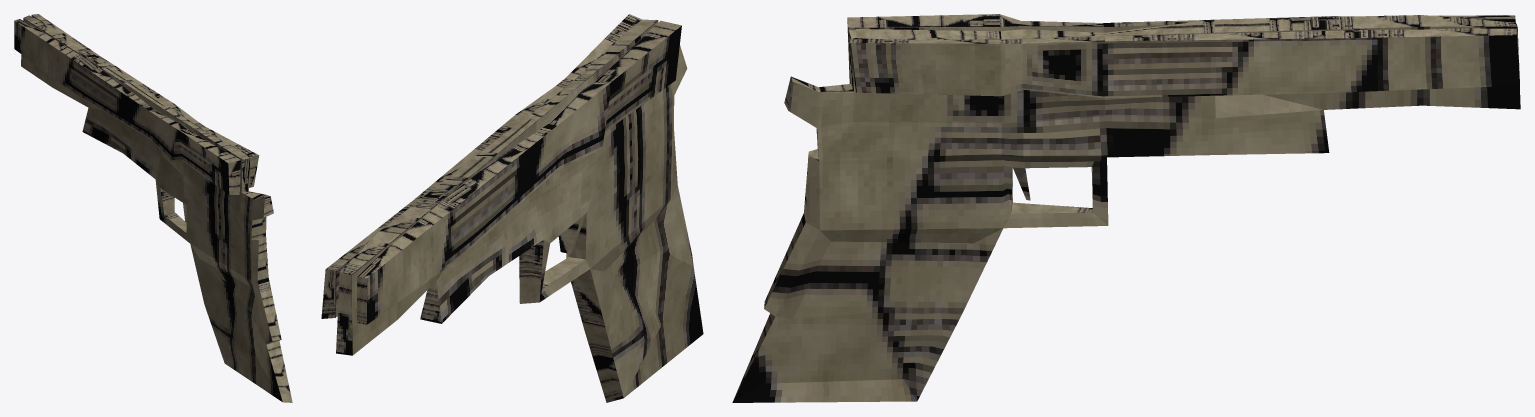
Rendered from cardboardPistol_walk.fbx.
3 renders of one model, left to right at view 1: azimuth 30°, elevation 25°; view 2: azimuth 150°, elevation 25°; view 3: azimuth 270°, elevation 25°, orthographic. The views are drawn at different scales.
Parts seen in each view (by area): view 1: main pistol, slider; view 2: main pistol, slider; view 3: main pistol, slider.
Part boxes in pixels (left/top/right/bottom): main pistol: left=21, top=15, right=292, bottom=402; slider: left=14, top=14, right=259, bottom=194; main pistol: left=336, top=19, right=703, bottom=402; slider: left=321, top=14, right=681, bottom=324; main pistol: left=732, top=15, right=1520, bottom=402; slider: left=847, top=14, right=1519, bottom=98.
Size of the model in its own units: 4.5 by 22.8 by 44.65.
